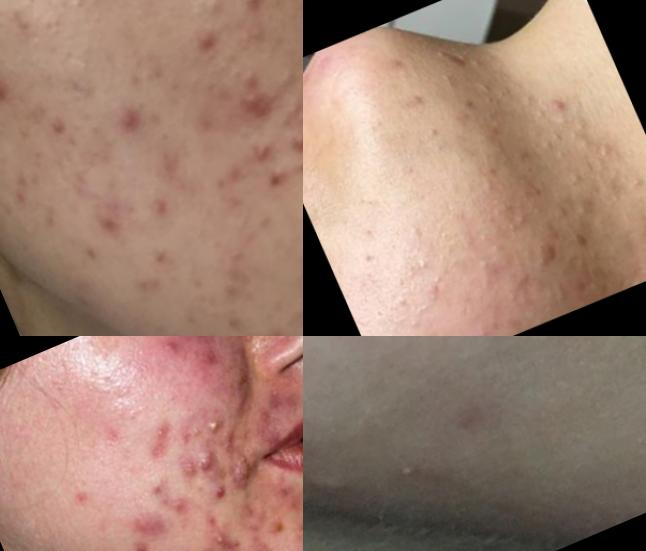papular: (95, 91, 161, 147), (235, 83, 290, 134), (237, 130, 289, 178), (543, 88, 588, 130), (142, 184, 183, 226), (259, 157, 299, 194), (189, 29, 227, 63), (156, 337, 190, 372), (534, 243, 571, 275), (203, 476, 236, 509), (135, 508, 165, 542), (93, 206, 122, 240), (43, 110, 74, 141), (162, 489, 192, 520), (571, 225, 600, 257), (1, 68, 19, 118), (630, 216, 646, 259), (269, 516, 295, 542)
purulent: (197, 406, 235, 445), (282, 119, 304, 165), (228, 1, 275, 20), (206, 525, 236, 551), (194, 540, 223, 551)
sebo-crystan-conglo: (223, 449, 266, 499), (191, 445, 225, 481)
whitehead: (374, 444, 451, 518), (508, 72, 560, 137), (558, 154, 608, 201), (64, 51, 106, 95), (48, 1, 106, 27), (474, 72, 505, 110), (505, 209, 538, 242), (598, 136, 629, 171), (192, 1, 236, 25), (435, 66, 469, 96), (475, 251, 503, 281), (391, 284, 417, 316), (412, 246, 441, 274), (504, 286, 533, 314), (624, 170, 646, 197), (435, 264, 459, 286)
